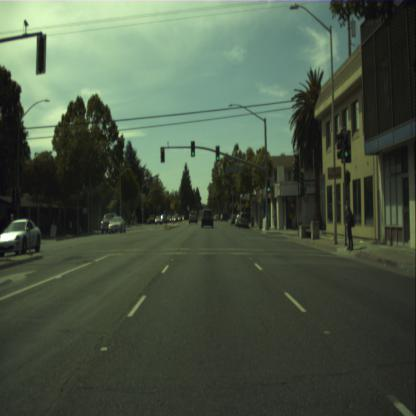Green: (342, 130, 351, 161), (190, 140, 195, 156), (266, 178, 270, 193), (216, 146, 219, 160)
Red: (160, 146, 164, 162)
